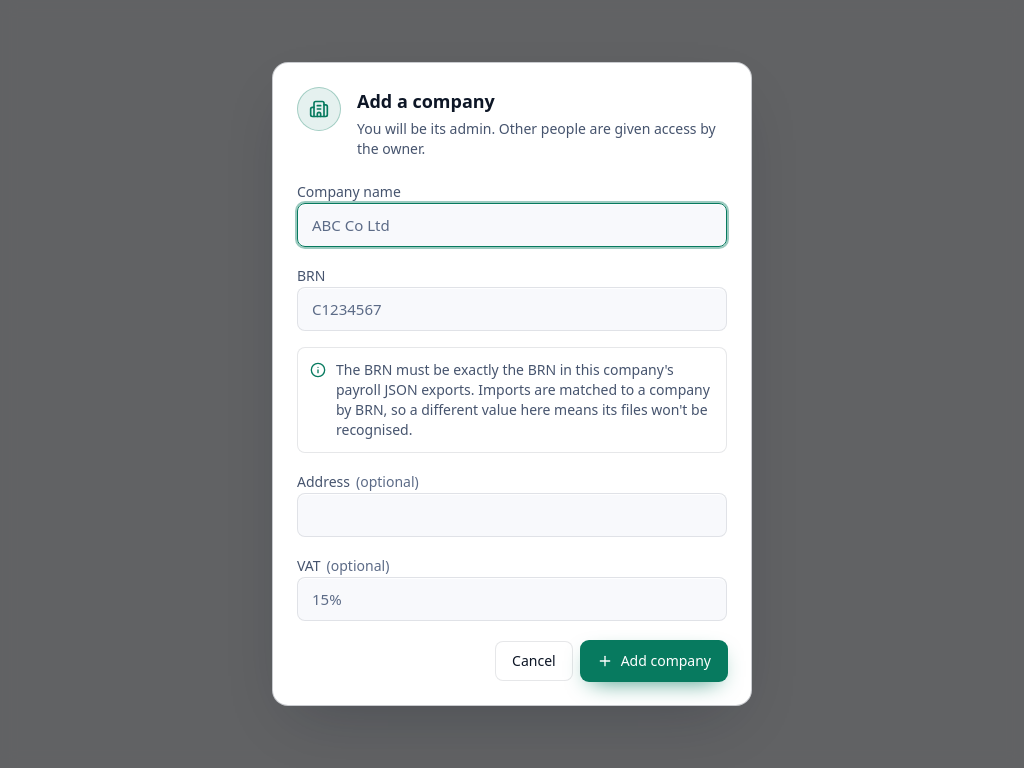
Test: <AddCompanyDialog> › explains {}
The image size is (1024, 768).
Type "New Venture Ltd" into the field labelled "Company name".
click(512, 225); type("New Venture Ltd")  # box x1=297 y1=203 x2=727 y2=247
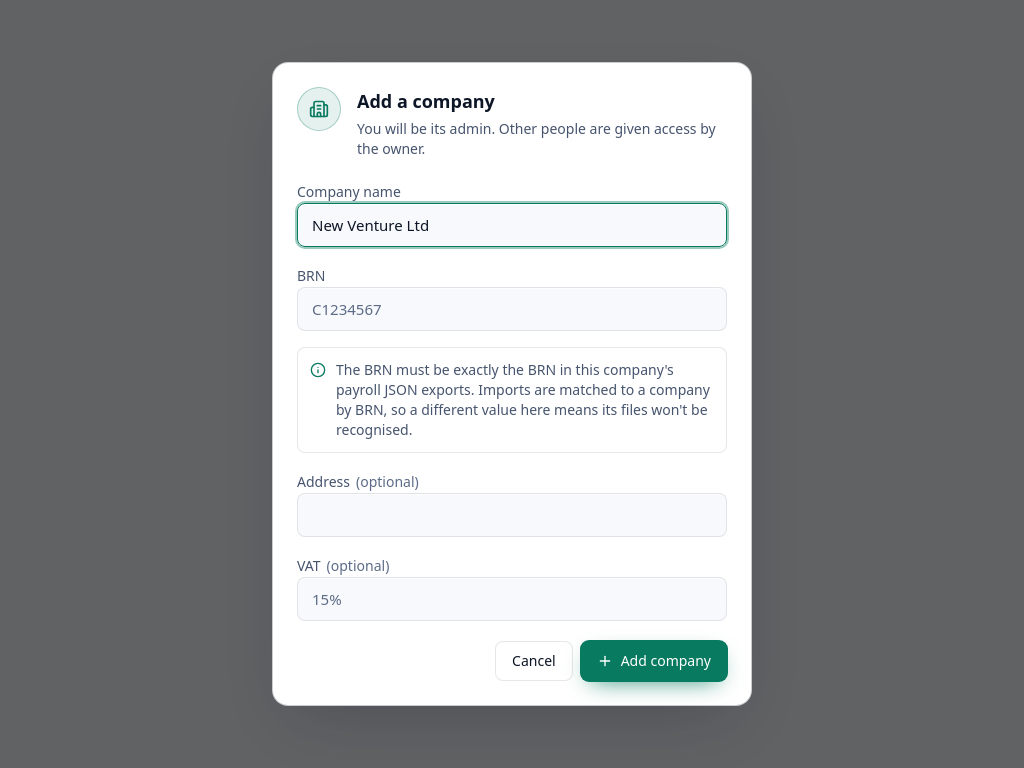
Type "C7654321" into the field labelled "BRN".
click(512, 309); type("C7654321")  # box x1=297 y1=287 x2=727 y2=331
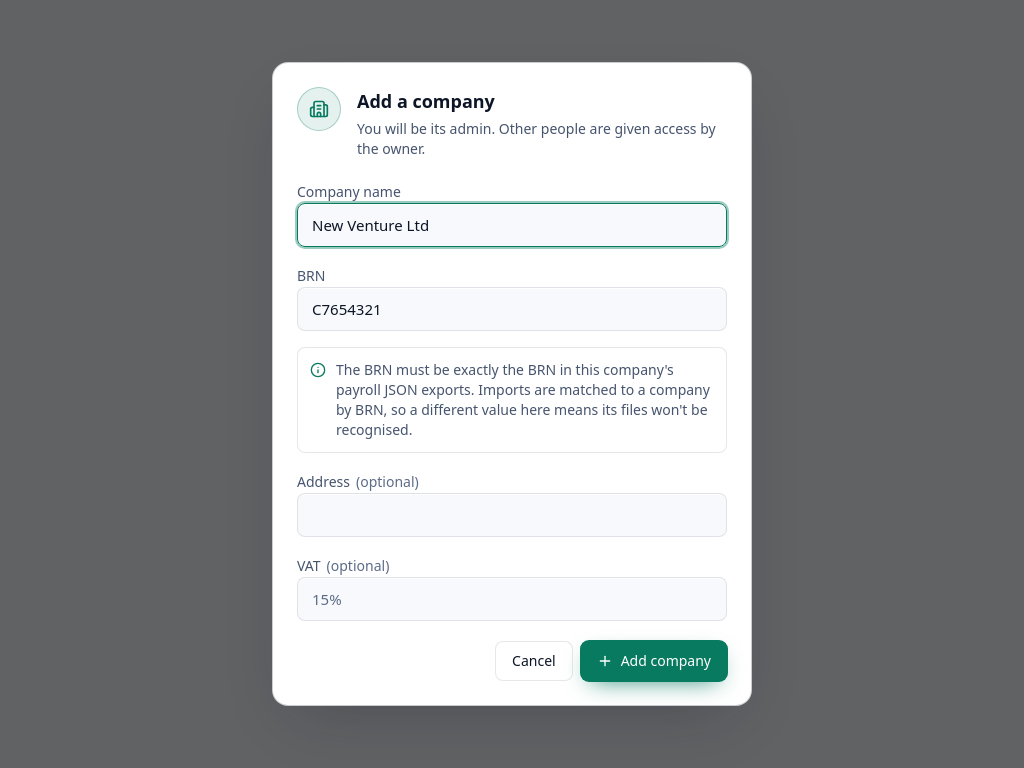
Click the button "Add company".
click(654, 661)  # box x1=581 y1=641 x2=727 y2=681
(page scrolled)
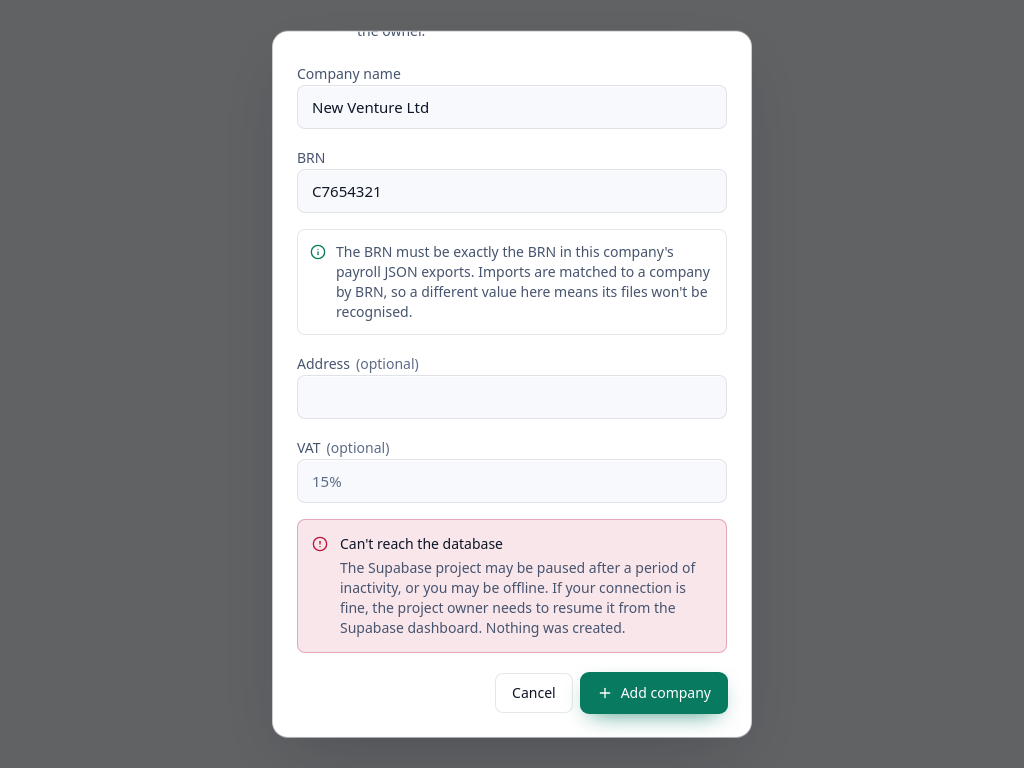
Expected: the dialog is shown, x1=272 y1=31 x2=752 y2=737
Expected: the message shows "Can't reach the database", x1=340 y1=534 x2=503 y2=553
